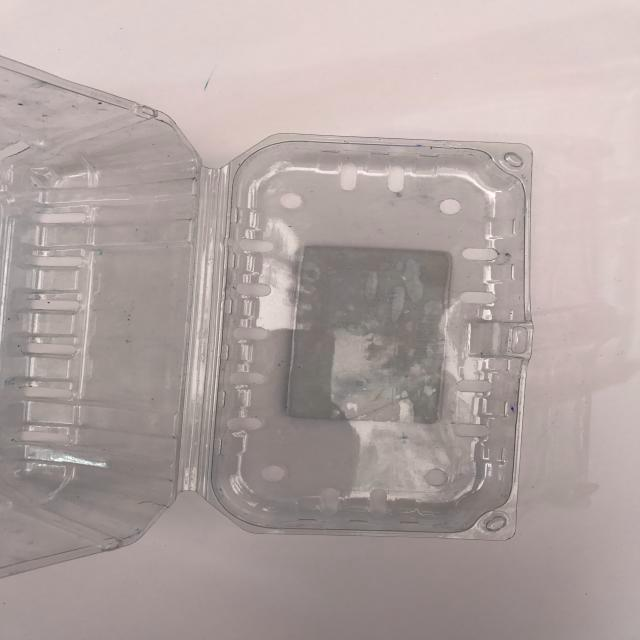plastic: (0, 41, 545, 599)
